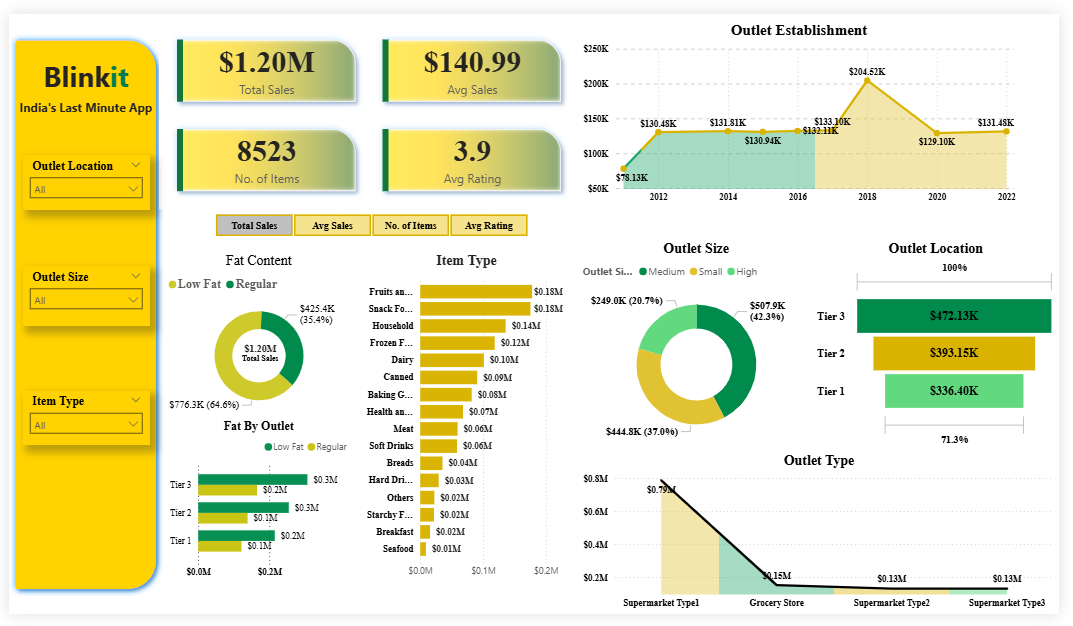

The page's visual inventory and layout, read from the dashboard file:
{"tool":"powerbi","page":{"name":"Page 1","canvas":[1400,800],"ordinal":0},"visuals":[{"type":"shape","box":[0,25,205,750],"z":0},{"type":"textbox","box":[17.5,52.5,170,72.5],"z":1000},{"type":"textbox","box":[0,107.5,205,35],"z":2000},{"type":"cardVisual","fields":{"Data":["BlinkIT Grocery Data.Total Sales","BlinkIT Grocery Data.Avg Sales","BlinkIT Grocery Data.No. of Items","BlinkIT Grocery Data.Avg Rating"]},"box":[200,10,560,250],"z":3000},{"type":"shape","box":[205,260,555,515],"z":4000},{"type":"slicer","fields":{"Values":["Metrics.Metrics"]},"box":[250,260,465,42.5],"z":5000},{"type":"donutChart","title":"Fat Content","fields":{"Y":["BlinkIT Grocery Data.Total Sales"],"Category":["BlinkIT Grocery Data.Item Fat Content"]},"box":[206,318,254,222],"z":6000},{"type":"cardVisual","fields":{"Data":["BlinkIT Grocery Data.Total Sales"]},"box":[276,416,118,72],"z":7000},{"type":"clusteredBarChart","title":"Fat By Outlet","fields":{"Y":["BlinkIT Grocery Data.Total Sales"],"Category":["BlinkIT Grocery Data.Outlet Location Type"],"Series":["BlinkIT Grocery Data.Item Fat Content"]},"box":[206,540,254,220],"z":8000},{"type":"barChart","title":"Item Type","fields":{"Y":["BlinkIT Grocery Data.Total Sales"],"Category":["BlinkIT Grocery Data.Item Type"]},"box":[460,317.5,300,442.5],"z":9000},{"type":"donutChart","title":"Outlet Size","fields":{"Y":["BlinkIT Grocery Data.Total Sales"],"Category":["BlinkIT Grocery Data.Outlet Size"]},"box":[760,302.5,312.5,280],"z":10000},{"type":"funnel","title":"Outlet Location ","fields":{"Y":["BlinkIT Grocery Data.Total Sales"],"Category":["BlinkIT Grocery Data.Outlet Location Type"]},"box":[1072.5,302.5,327.5,280],"z":11000},{"type":"lineChart","title":"Outlet Type","fields":{"Y":["BlinkIT Grocery Data.Total Sales"],"Category":["BlinkIT Grocery Data.Outlet Type"]},"box":[760,583.3,640,216.7],"z":12000},{"type":"lineChart","title":"Outlet Establishment","fields":{"Y":["BlinkIT Grocery Data.Total Sales"],"Category":["BlinkIT Grocery Data.Outlet Establishment Year"]},"box":[760,10,586.7,250],"z":13000},{"type":"slicer","fields":{"Values":["BlinkIT Grocery Data.Outlet Location Type"]},"box":[17.5,187.5,170,73],"z":14000},{"type":"slicer","fields":{"Values":["BlinkIT Grocery Data.Outlet Size"]},"box":[17.5,335,170,80],"z":15000},{"type":"slicer","fields":{"Values":["BlinkIT Grocery Data.Item Type"]},"box":[17.5,502.5,170,72.5],"z":16000}]}

Visuals, with their boxes in screenshot pixels (x1, y1, x2, y2), scaled from the page's 1400x800 canvas onto the 1073x626 screenshot:
shape: (0, 20, 157, 606)
textbox: (13, 41, 144, 98)
textbox: (0, 84, 157, 112)
cardVisual - BlinkIT Grocery Data.Total Sales x BlinkIT Grocery Data.Avg Sales: (153, 8, 582, 203)
shape: (157, 203, 582, 606)
slicer - Metrics.Metrics: (192, 203, 548, 237)
"Fat Content" donutChart: (158, 249, 353, 423)
cardVisual - BlinkIT Grocery Data.Total Sales: (212, 326, 302, 382)
"Fat By Outlet" clusteredBarChart: (158, 423, 353, 595)
"Item Type" barChart: (353, 248, 582, 595)
"Outlet Size" donutChart: (582, 237, 822, 456)
"Outlet Location " funnel: (822, 237, 1072, 456)
"Outlet Type" lineChart: (582, 456, 1072, 625)
"Outlet Establishment" lineChart: (582, 8, 1032, 203)
slicer - BlinkIT Grocery Data.Outlet Location Type: (13, 147, 144, 204)
slicer - BlinkIT Grocery Data.Outlet Size: (13, 262, 144, 325)
slicer - BlinkIT Grocery Data.Item Type: (13, 393, 144, 450)
